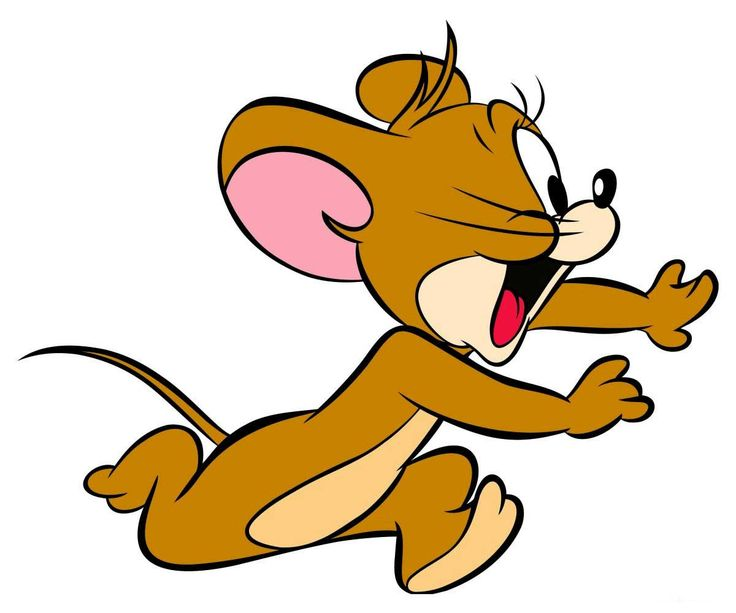jerry: (13, 23, 716, 594)
